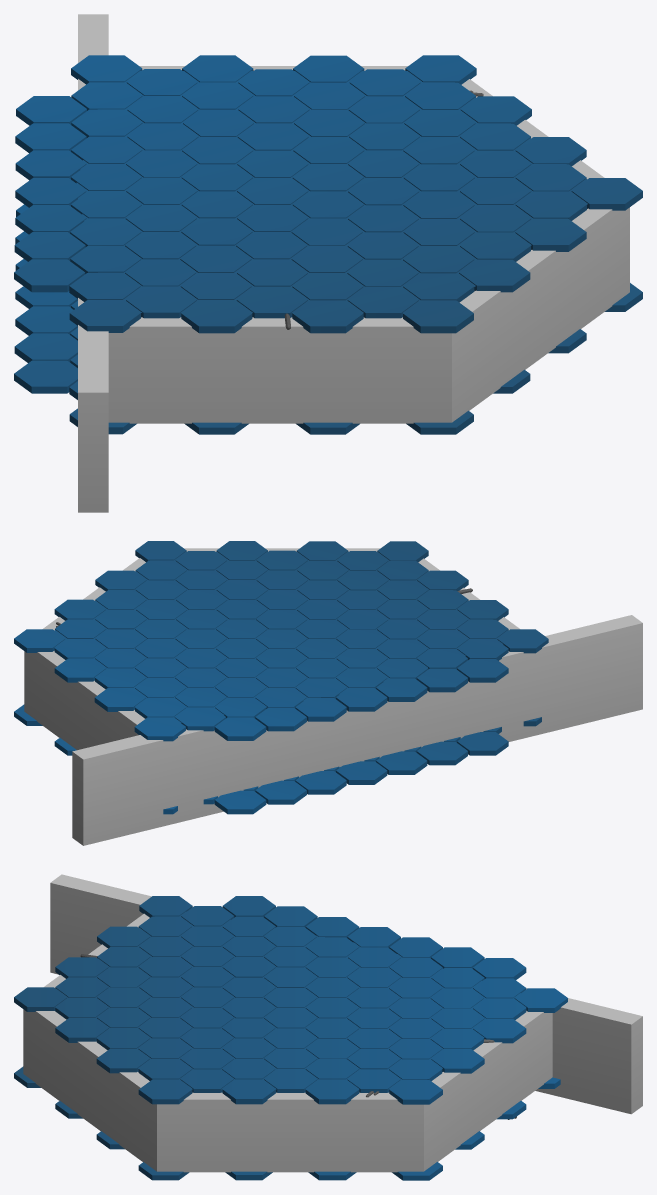
Rendered from pescaderia.fbx.
The picture shows the model from 3 angles, top to bottom: view 1: azimuth 30°, elevation 25°; view 2: azimuth 150°, elevation 25°; view 3: azimuth 270°, elevation 25°; orthographic projection. The views are drawn at different scales.
Parts seen in each view (by area): view 1: Cylinder.010, Cube, Cylinder.001; view 2: Cylinder.010, Cube, Cylinder.001; view 3: Cylinder.010, Cube, Cylinder.001.
Part boxes in pixels (box(x1,y1,x2,y2)): Cylinder.010: box(14, 55, 642, 333); Cube: box(78, 14, 629, 512); Cylinder.001: box(14, 204, 642, 434); Cylinder.010: box(14, 541, 548, 741); Cube: box(24, 548, 642, 845); Cylinder.001: box(14, 704, 541, 814); Cylinder.010: box(14, 896, 567, 1104); Cube: box(23, 874, 642, 1172); Cylinder.001: box(14, 1066, 560, 1180).
Bounding box in the file's own units: 2030 × 422 × 2356.
Materials: 3 (1 with a texture image).
